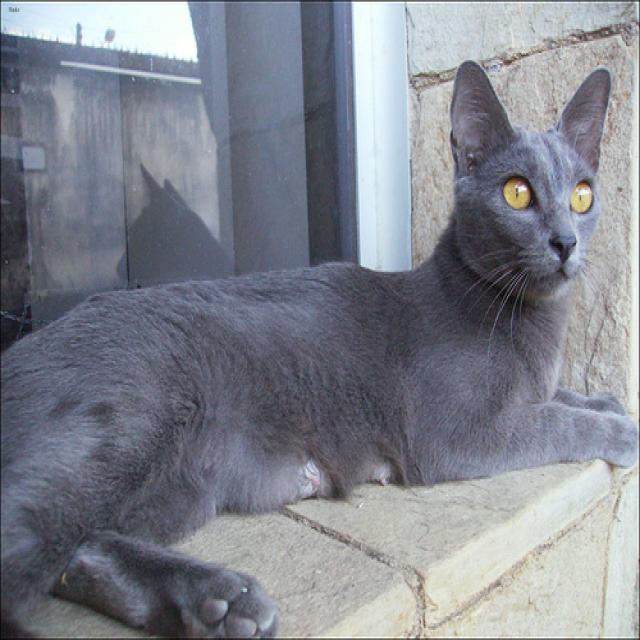Russian_Blue: (450, 58, 610, 298)
